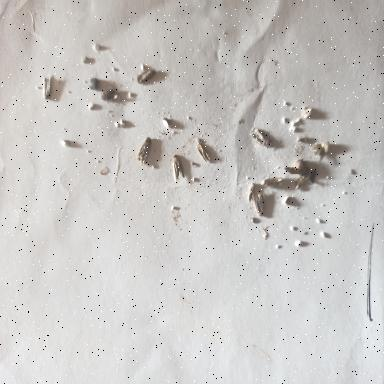pbw: (249, 128, 273, 148), (137, 136, 151, 166), (172, 154, 184, 184), (294, 168, 310, 190), (196, 142, 210, 162), (138, 69, 156, 84), (261, 177, 283, 187), (319, 141, 329, 162), (44, 74, 52, 100), (252, 196, 262, 216), (284, 166, 304, 174), (257, 192, 264, 214), (248, 182, 254, 202)
